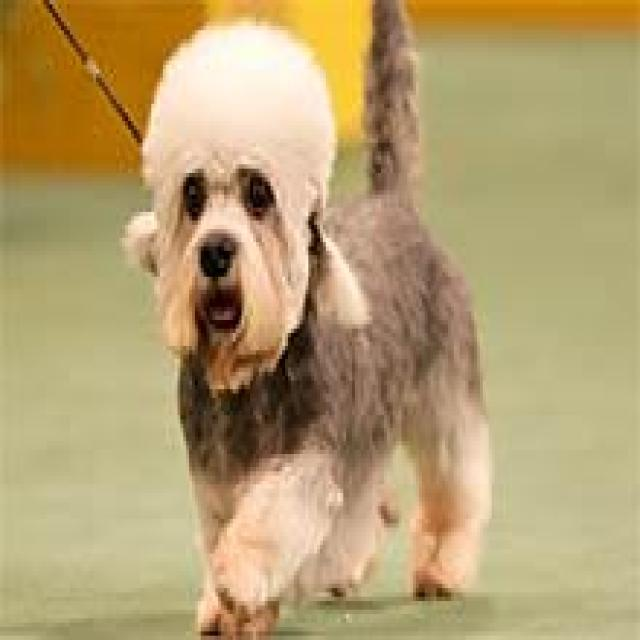dandie_dinmont: (122, 0, 486, 636)
